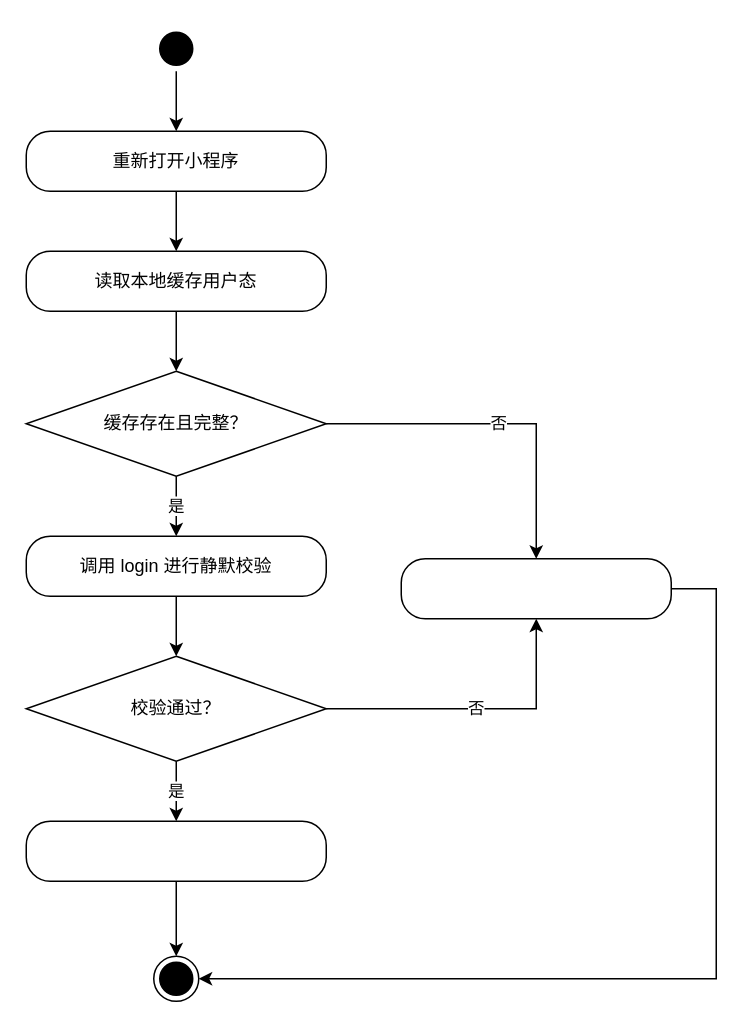
The diagram is 755 pixels wide and 1028 high, and some of its shapes have lost their labels. Each missing label, with the box of its shape:
恢复会话并进入首页: (25, 820, 326, 881)
清理缓存并跳转登录: (400, 557, 671, 619)
